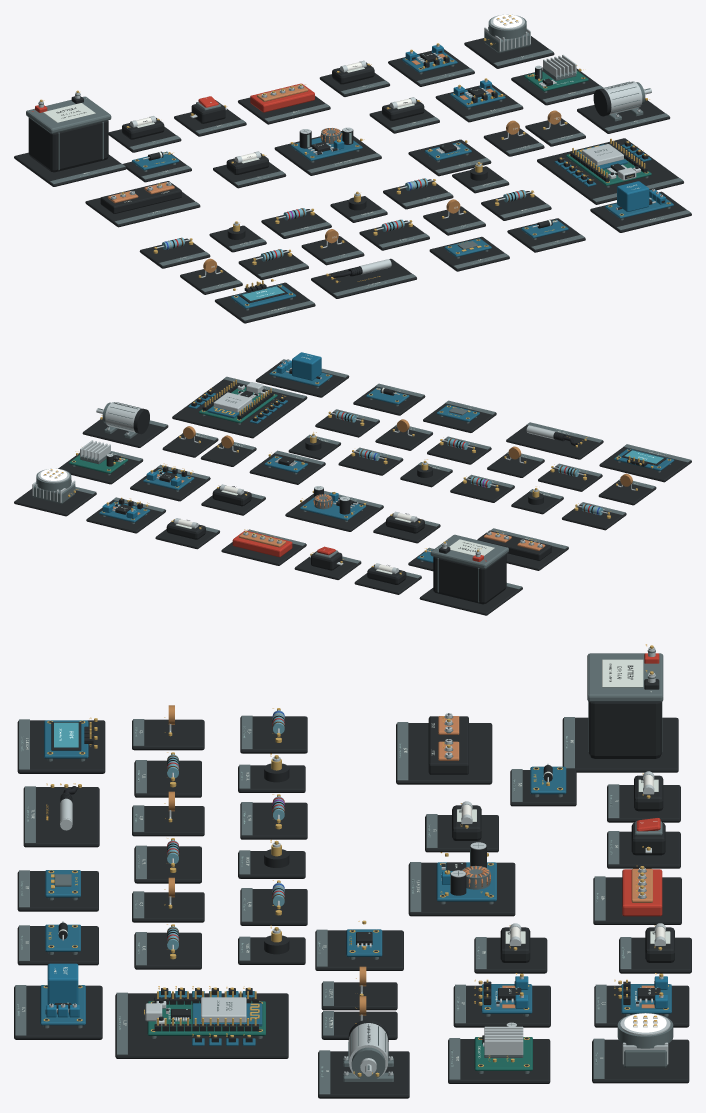
File: circuit-lab.glb
The picture shows the model from 3 angles, top to bottom: view 1: azimuth 30°, elevation 25°; view 2: azimuth 150°, elevation 25°; view 3: azimuth 270°, elevation 25°; orthographic projection. The views are drawn at different scales.
Visible parts, largest first — view 1: BAT1_GT_black, U_ESP_GT_black, JGND_GT_black, U_BUCK_BOARD_GT_black, BAT1_GT_darkmetal, T1_PROBE_GT_black, M1_GT_black, U_OLED_BOARD_GT_black, S_M_GT_black, S_L_GT_black, RLY1_GT_black, U_I_L_GT_black (+40 smaller); view 2: BAT1_GT_black, U_ESP_GT_black, T1_PROBE_GT_black, U_BUCK_BOARD_GT_black, JGND_GT_black, M1_GT_black, U_OLED_BOARD_GT_black, BAT1_GT_darkmetal, S_M_GT_black, S_L_GT_black, RLY1_GT_black, U_I_L_GT_black (+39 smaller); view 3: U_ESP_GT_black, BAT1_GT_black, JGND_GT_black, U_BUCK_BOARD_GT_black, T1_PROBE_GT_black, BAT1_GT_darkmetal, U_OLED_BOARD_GT_black, M1_GT_black, S_M_GT_black, L1_GT_black, RLY1_GT_black, U_I_L_GT_black (+51 smaller).
Part boxes in pixels (x1=…): BAT1_GT_black: x1=14, y1=96, x2=126, y2=186; U_ESP_GT_black: x1=537, y1=138, x2=683, y2=204; JGND_GT_black: x1=85, y1=181, x2=200, y2=227; U_BUCK_BOARD_GT_black: x1=274, y1=129, x2=381, y2=175; BAT1_GT_darkmetal: x1=26, y1=94, x2=125, y2=184; T1_PROBE_GT_black: x1=311, y1=258, x2=416, y2=298; M1_GT_black: x1=577, y1=82, x2=670, y2=133; U_OLED_BOARD_GT_black: x1=215, y1=282, x2=315, y2=323; S_M_GT_black: x1=435, y1=84, x2=523, y2=122; S_L_GT_black: x1=388, y1=49, x2=474, y2=86; RLY1_GT_black: x1=590, y1=189, x2=691, y2=232; U_I_L_GT_black: x1=408, y1=139, x2=491, y2=176; BAT1_GT_black: x1=419, y1=542, x2=522, y2=615; U_ESP_GT_black: x1=172, y1=379, x2=307, y2=438; T1_PROBE_GT_black: x1=506, y1=425, x2=603, y2=459; U_BUCK_BOARD_GT_black: x1=285, y1=488, x2=383, y2=531; JGND_GT_black: x1=477, y1=530, x2=568, y2=570; M1_GT_black: x1=82, y1=402, x2=168, y2=447; U_OLED_BOARD_GT_black: x1=599, y1=447, x2=691, y2=482; BAT1_GT_darkmetal: x1=430, y1=534, x2=521, y2=602; S_M_GT_black: x1=130, y1=466, x2=210, y2=501; S_L_GT_black: x1=86, y1=498, x2=165, y2=533; RLY1_GT_black: x1=256, y1=359, x2=349, y2=397; U_I_L_GT_black: x1=249, y1=453, x2=325, y2=484; U_ESP_GT_black: x1=115, y1=988, x2=288, y2=1058; BAT1_GT_black: x1=562, y1=648, x2=678, y2=772; JGND_GT_black: x1=396, y1=713, x2=492, y2=784; U_BUCK_BOARD_GT_black: x1=408, y1=845, x2=515, y2=916; T1_PROBE_GT_black: x1=23, y1=787, x2=99, y2=847; BAT1_GT_darkmetal: x1=564, y1=650, x2=663, y2=768; U_OLED_BOARD_GT_black: x1=17, y1=720, x2=105, y2=773; M1_GT_black: x1=318, y1=1019, x2=409, y2=1098; S_M_GT_black: x1=453, y1=981, x2=550, y2=1027; L1_GT_black: x1=592, y1=1039, x2=689, y2=1083; RLY1_GT_black: x1=14, y1=985, x2=102, y2=1039; U_I_L_GT_black: x1=315, y1=930, x2=403, y2=970.
Bounding box in the file's own units: 8.49 × 0.9282 × 6.41.
